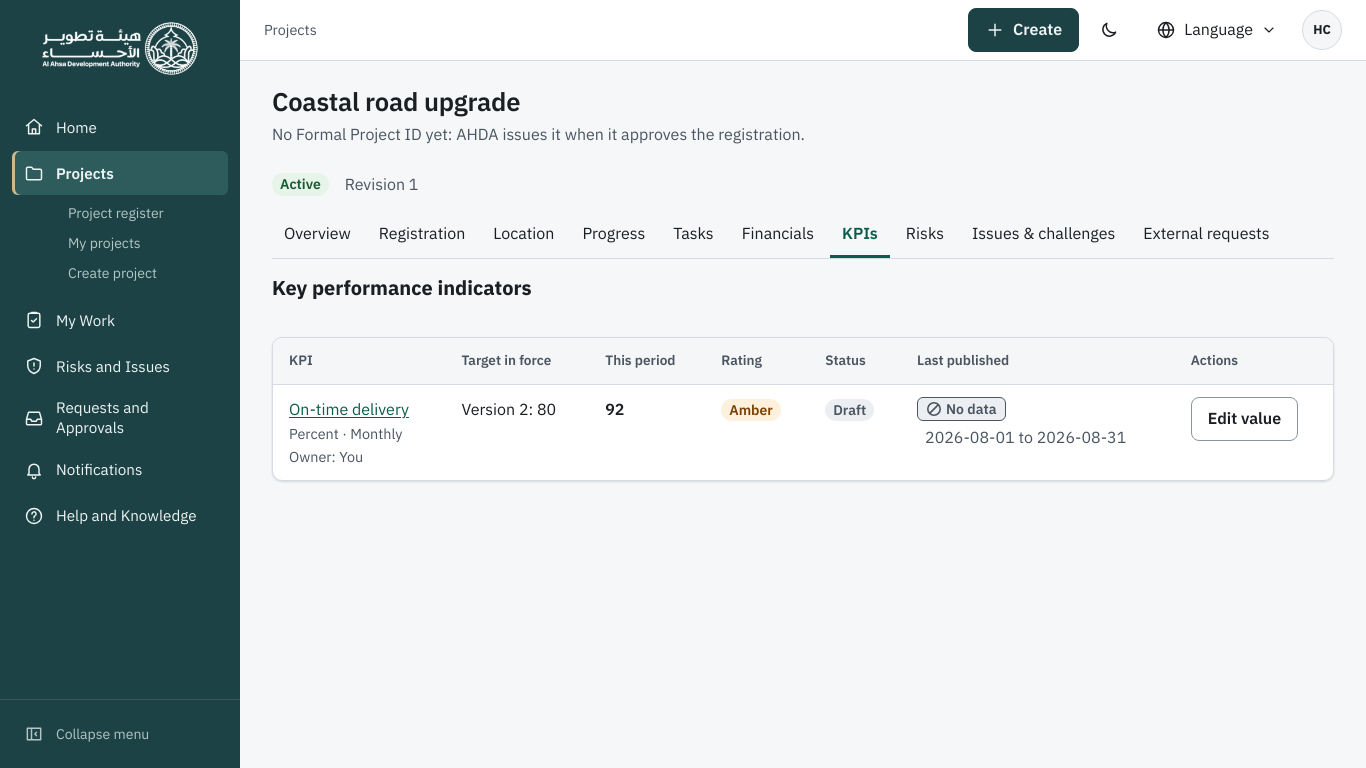
Test: MOD-024 Update KPI Value and publication › a DRAFT is edited with its ETag and keeps the version it was pinned to
This screenshot has width=1366, height=768.
Click the button "Edit value" at coordinates (1244, 419), box [1191, 397, 1298, 441]
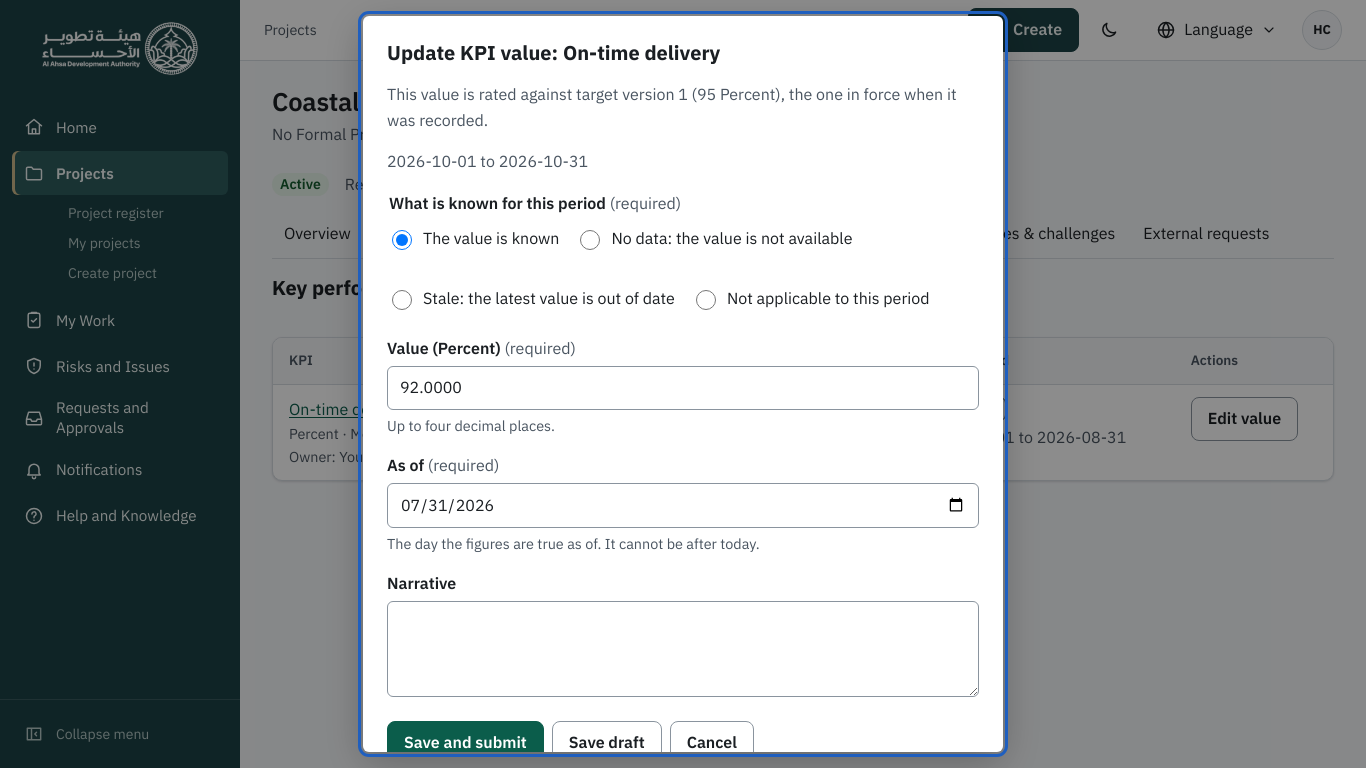
Replace the text in the field labelled "Value ( Percent ) (required)" with "93.5" at coordinates (683, 388), box [387, 366, 979, 410]
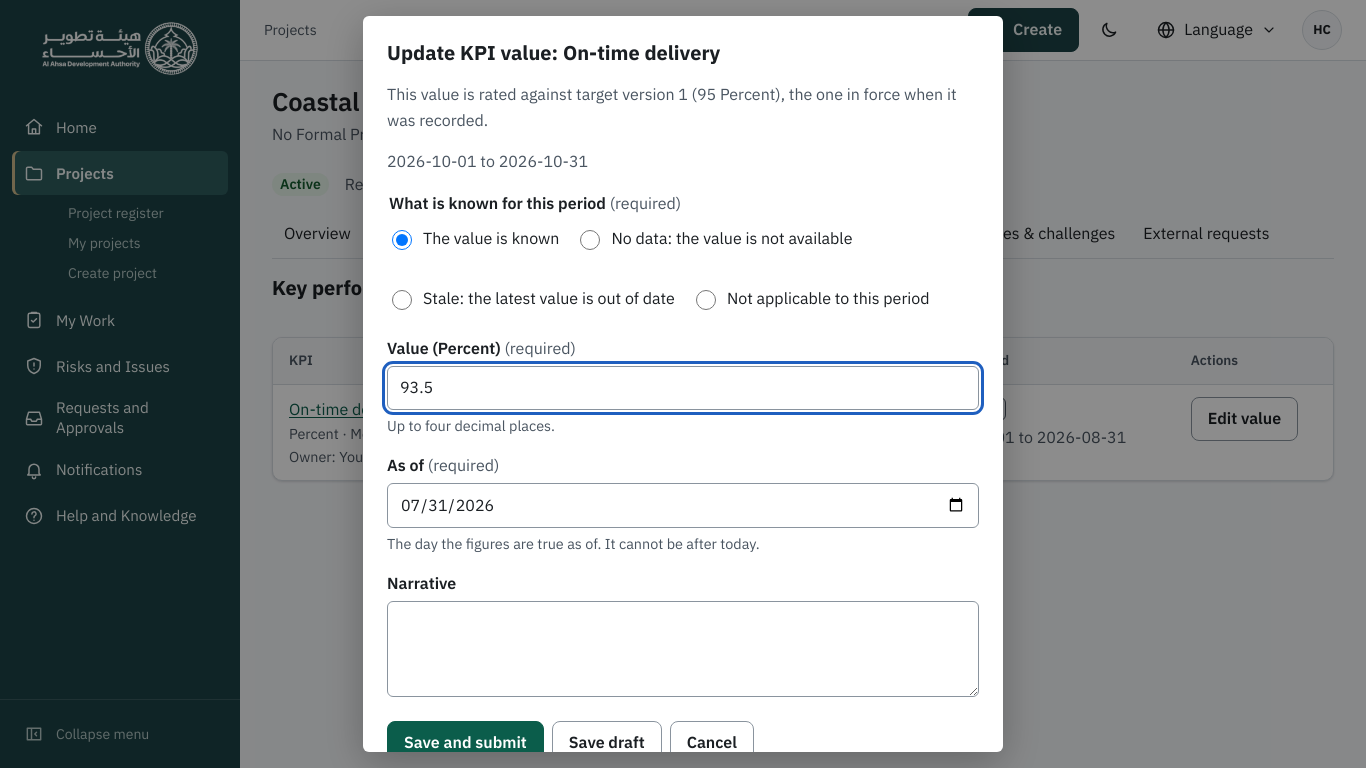
Click the button "Save draft" at coordinates (607, 743), box [552, 721, 662, 765]
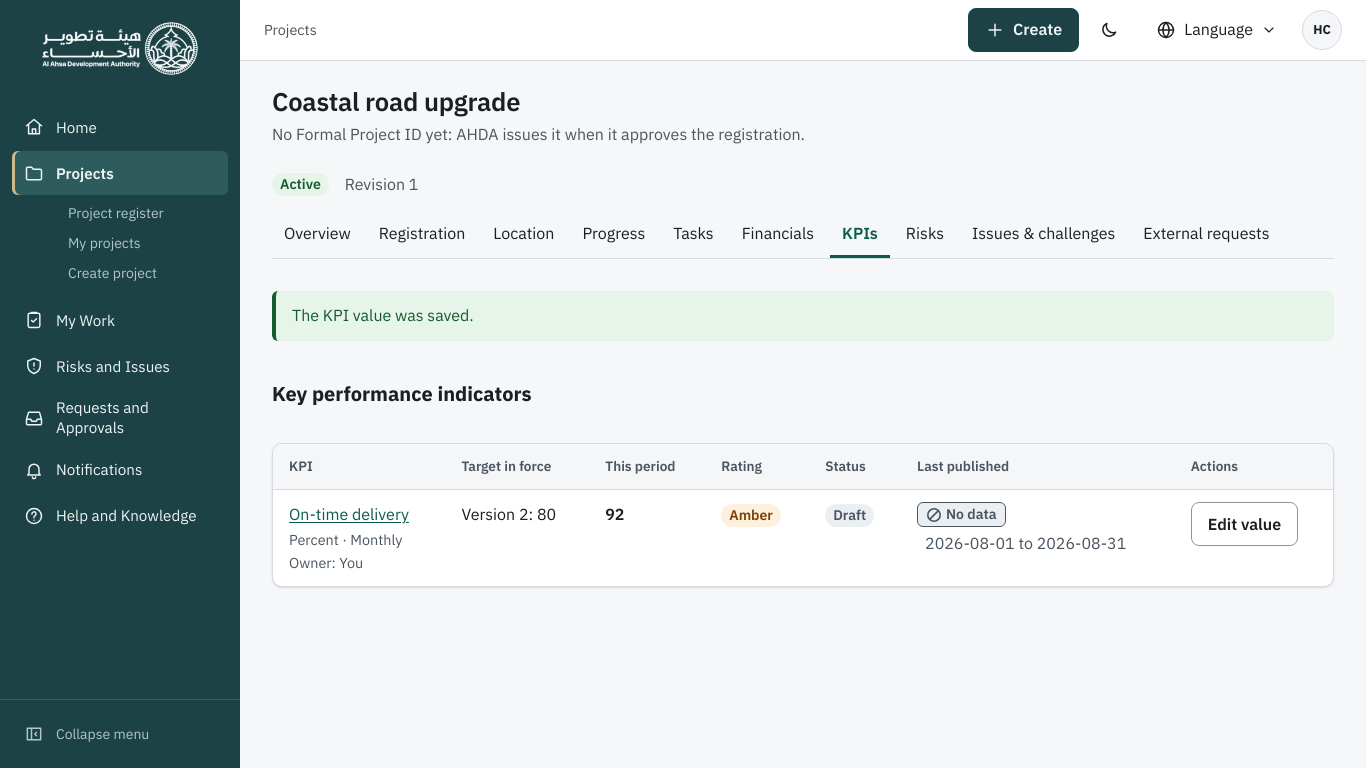
Check: the text "The KPI value was saved." is shown, box [272, 291, 1334, 341]
